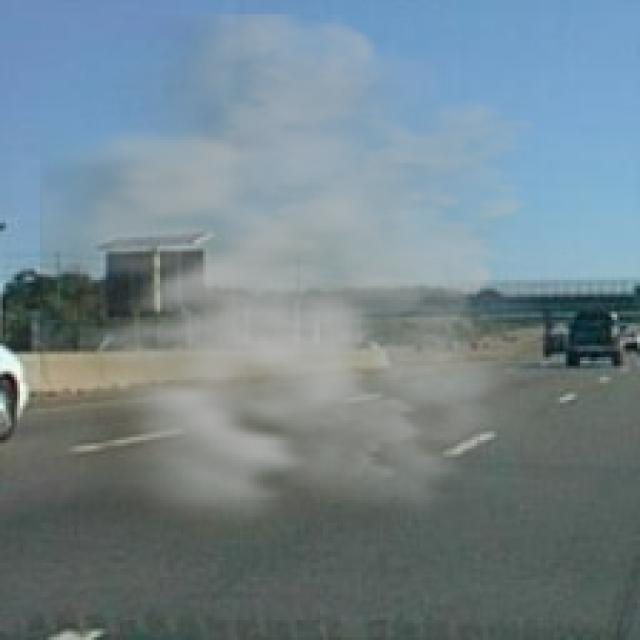smoke: (40, 14, 591, 557)
